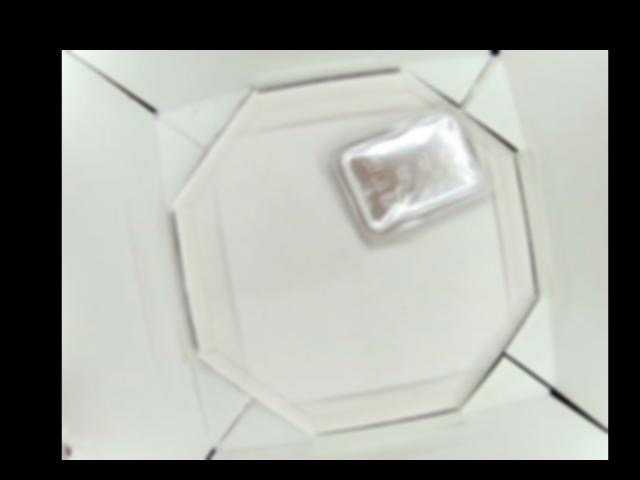Medicine: (325, 102, 492, 247)
